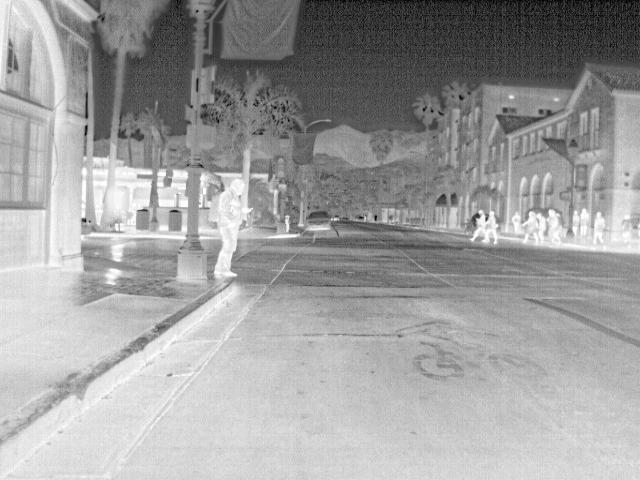car: (304, 209, 334, 233)
person: (211, 177, 253, 278), (470, 209, 491, 244), (520, 210, 539, 243), (547, 210, 563, 246), (591, 210, 607, 246), (568, 208, 582, 243), (486, 210, 499, 247), (578, 208, 593, 237), (511, 210, 520, 235)
